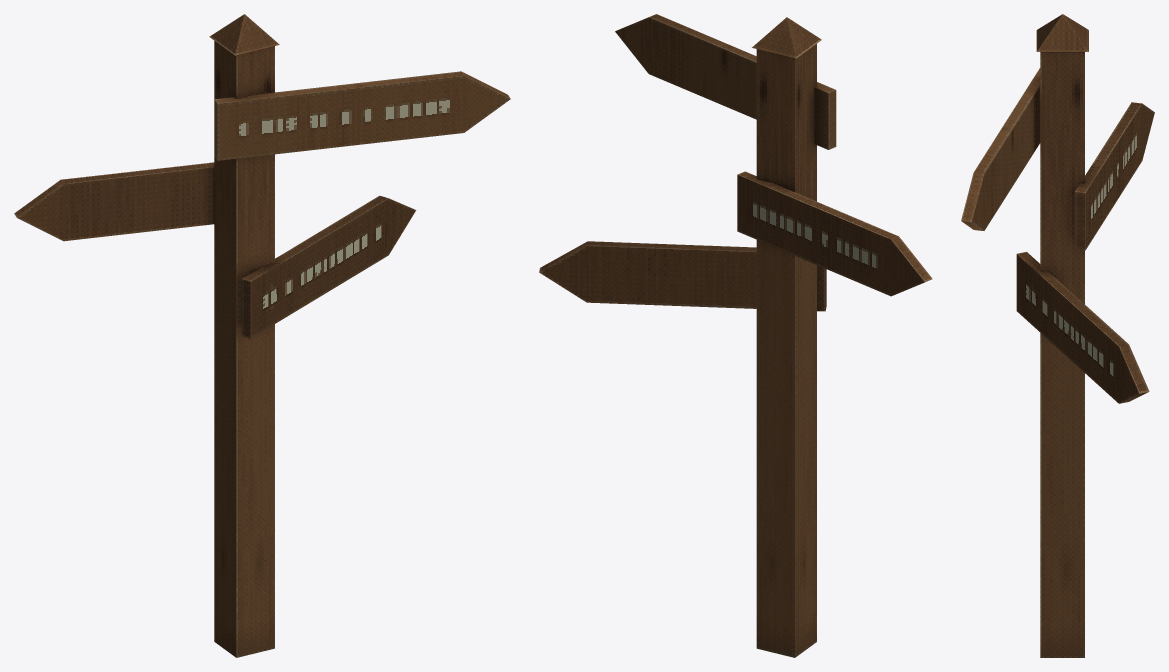
The model's file is Sign_Trail_01.glb.
The picture shows the model from 3 angles, left to right: view 1: azimuth 30°, elevation 25°; view 2: azimuth 150°, elevation 25°; view 3: azimuth 270°, elevation 25°; orthographic projection.
Parts seen in each view (by area): view 1: Sign_Trail_01; view 2: Sign_Trail_01; view 3: Sign_Trail_01.
Part boxes in pixels (bbox=[...]): Sign_Trail_01: bbox=[14, 14, 510, 657]; Sign_Trail_01: bbox=[539, 14, 932, 657]; Sign_Trail_01: bbox=[961, 14, 1154, 657].
Bounding box in the file's own units: 1.26 × 1.88 × 0.5207.
Materials: 1 (1 with a texture image).
